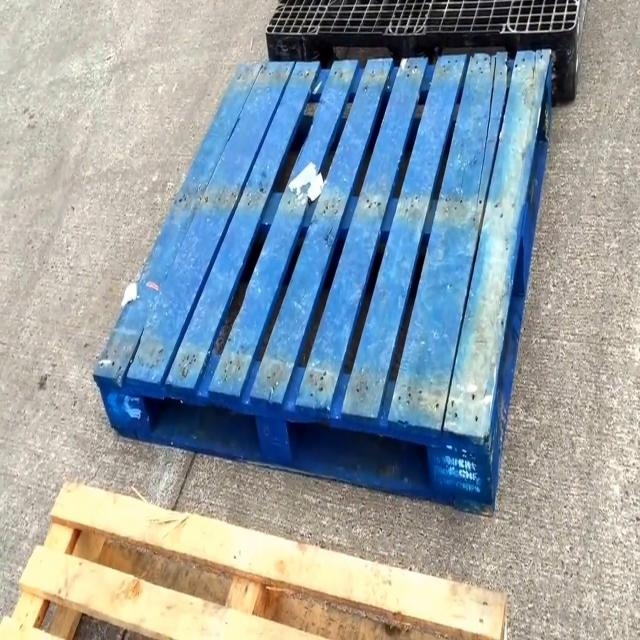Palette: (84, 37, 567, 516), (0, 486, 515, 640), (258, 0, 592, 90)
